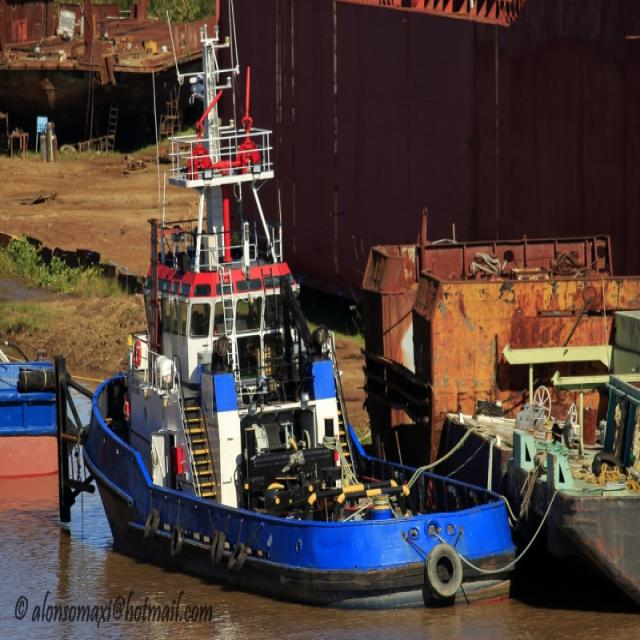tugboat: (78, 23, 520, 620)
